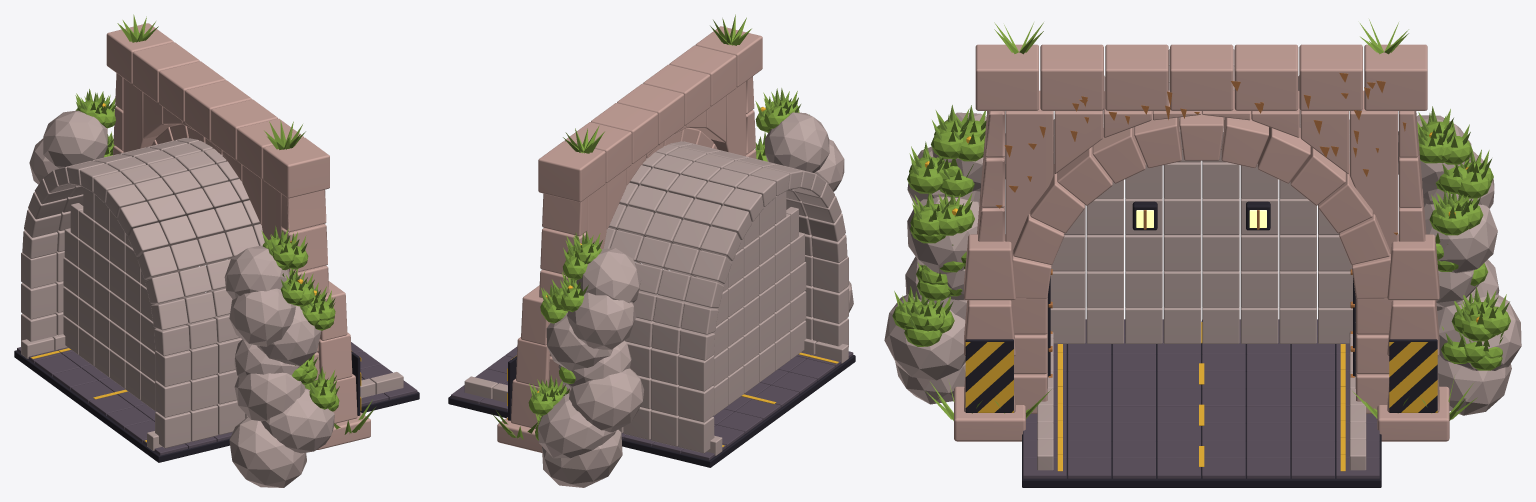
Rendered from bld.tunnel-portal.glb.
The picture shows the model from 3 angles, left to right: view 1: azimuth 30°, elevation 25°; view 2: azimuth 150°, elevation 25°; view 3: azimuth 270°, elevation 25°; orthographic projection. The views are drawn at different scales.
Size of the model in its own units: 7.3 by 8.64 by 12.39.
